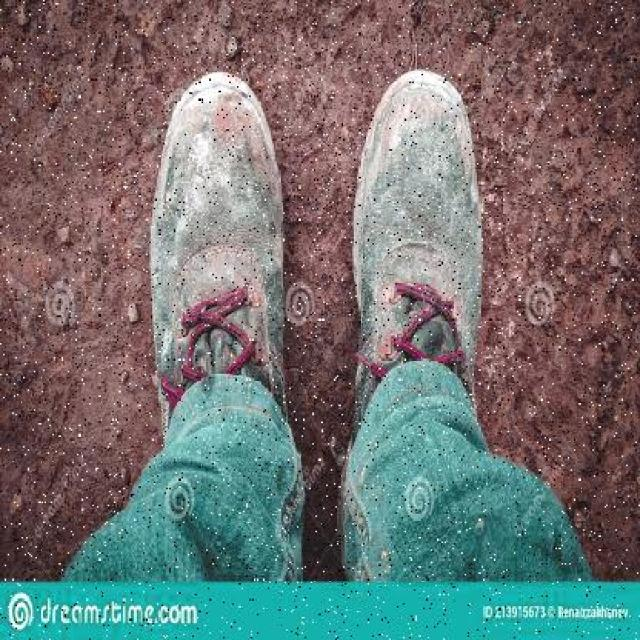shoes: (152, 84, 296, 436), (352, 77, 483, 426)
